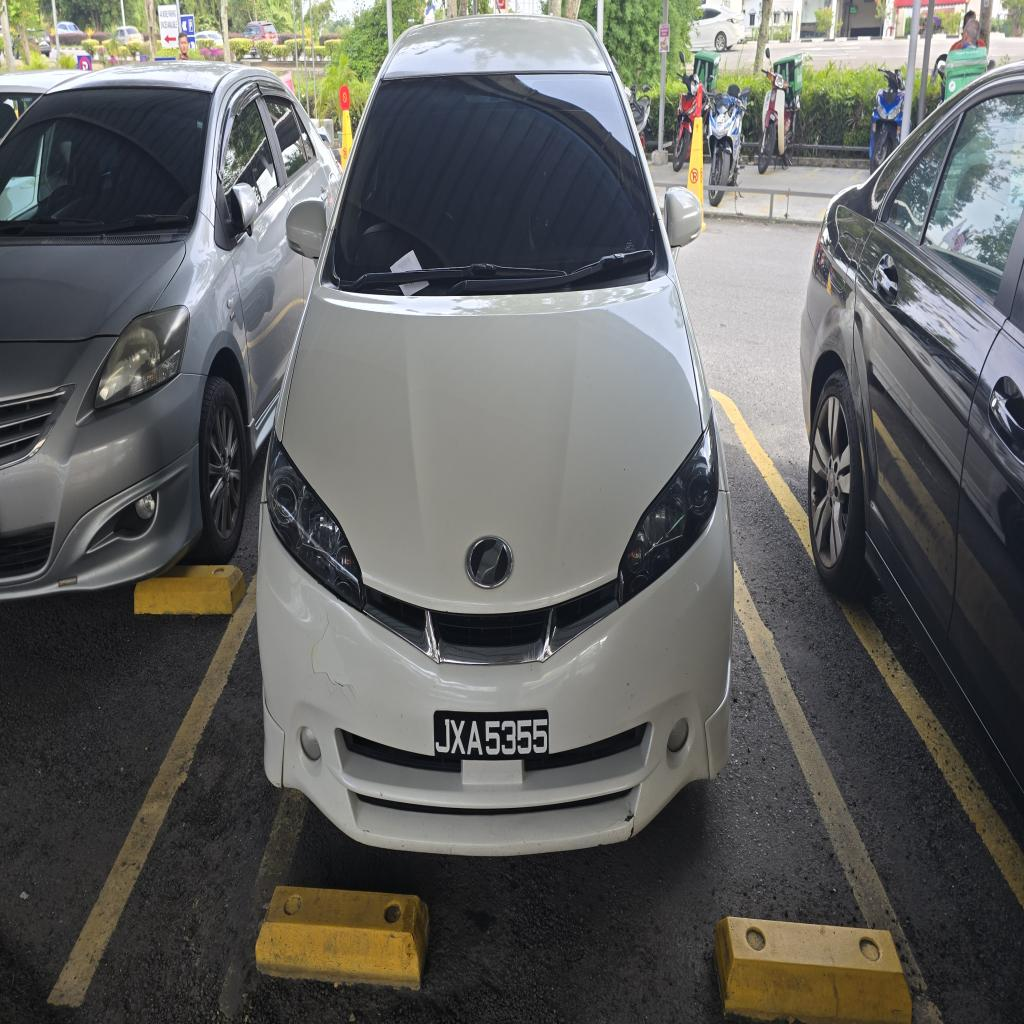car: (257, 17, 733, 854)
car plate: (434, 711, 548, 759)
